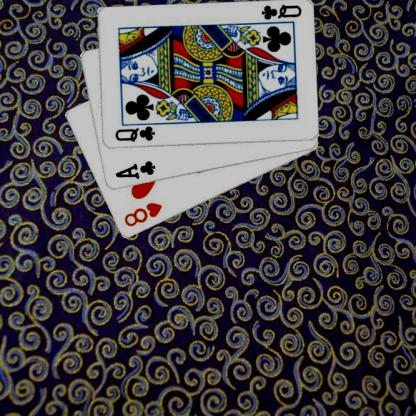8H: (121, 200, 164, 228)
AC: (113, 158, 156, 181)
QC: (112, 124, 156, 144), (259, 2, 302, 22)
